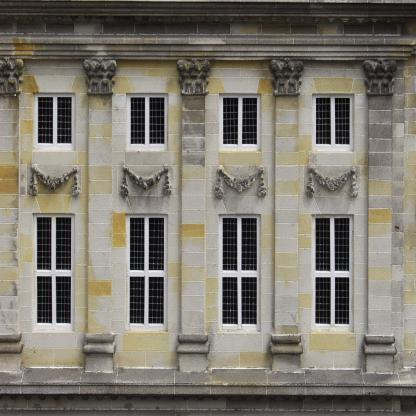Building Outline: (0, 0, 415, 416)
Deco: (0, 13, 416, 23), (213, 165, 267, 199), (305, 164, 359, 198), (29, 164, 81, 197), (120, 164, 172, 197)
Facade: (0, 0, 415, 416)
Floor: (0, 0, 416, 181), (0, 192, 416, 372), (0, 383, 416, 416)
Floor Slab: (0, 181, 416, 192), (0, 372, 415, 383)
Pillar: (82, 58, 117, 372), (176, 58, 211, 372), (269, 58, 304, 372), (363, 59, 397, 374), (0, 59, 24, 371)
Window: (33, 213, 75, 330), (312, 213, 353, 330), (126, 213, 167, 330), (219, 213, 260, 330), (312, 93, 354, 150), (219, 93, 261, 150), (34, 93, 75, 150), (127, 93, 168, 150)
